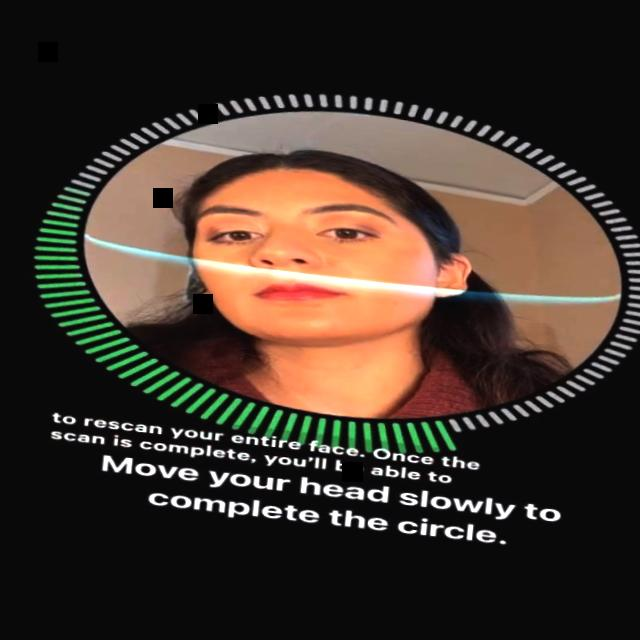NO-Mask: (165, 154, 473, 376)
